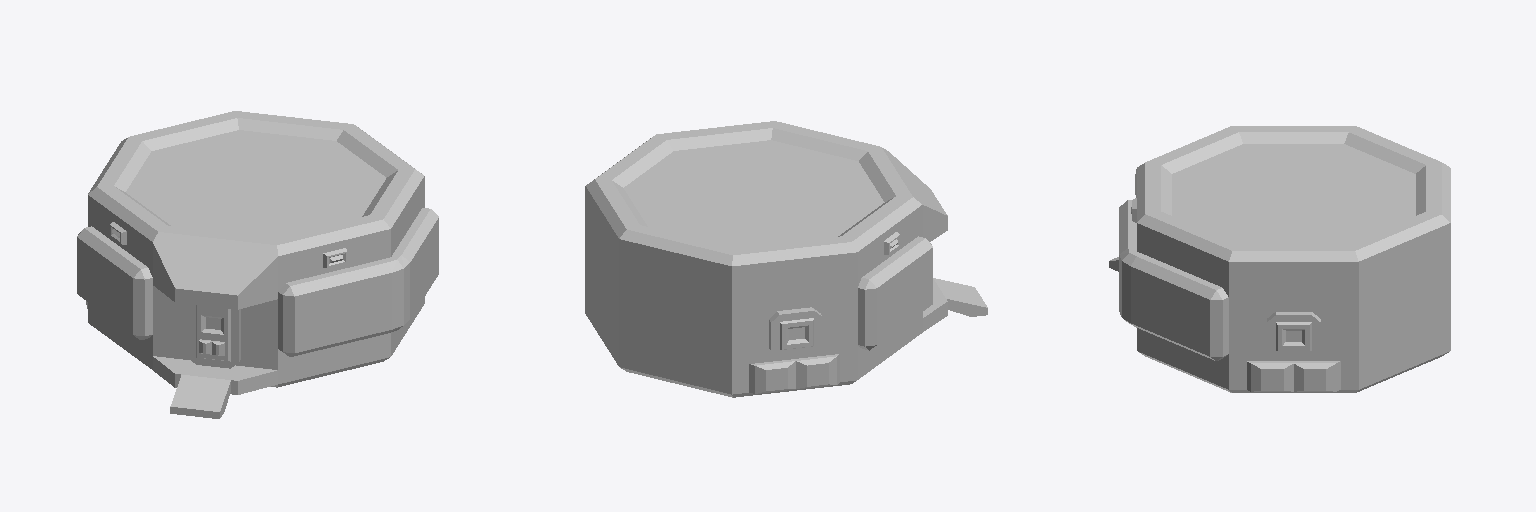
Rendered from basemodule_A.obj.
The picture shows the model from 3 angles: view 1: azimuth 30°, elevation 25°; view 2: azimuth 150°, elevation 25°; view 3: azimuth 270°, elevation 25°; orthographic projection.
Visible parts, largest first — view 1: basemodule_A_Cylinder.2721; view 2: basemodule_A_Cylinder.2721; view 3: basemodule_A_Cylinder.2721.
Boxes of the visible parts, x1,y1,x2,y2 form: basemodule_A_Cylinder.2721: [77, 111, 438, 418]; basemodule_A_Cylinder.2721: [585, 121, 987, 397]; basemodule_A_Cylinder.2721: [1109, 126, 1450, 392].
Size of the model in its own units: 2.25 by 1 by 2.18.